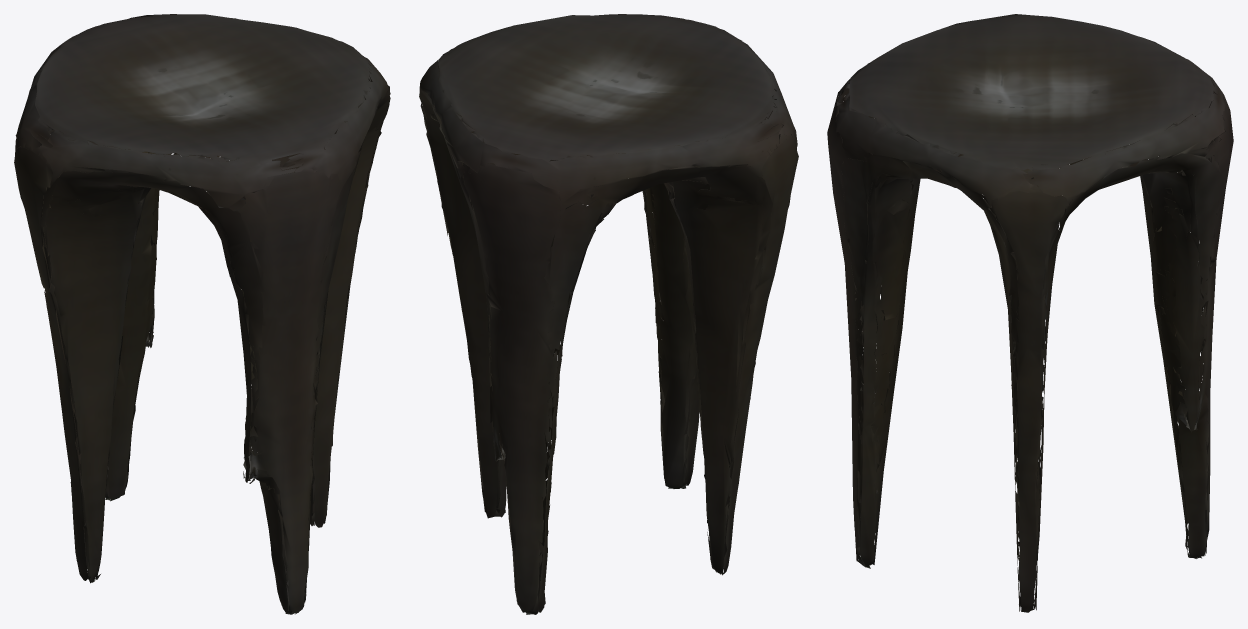
The model's file is side_table_2.glb.
The picture shows the model from 3 angles, left to right: view 1: azimuth 30°, elevation 25°; view 2: azimuth 150°, elevation 25°; view 3: azimuth 270°, elevation 25°; orthographic projection.
Parts seen in each view (by area): view 1: world_1; view 2: world_1; view 3: world_1.
Part boxes in pixels (x1,y1,x2,y2): world_1: [14, 14, 390, 614]; world_1: [419, 14, 798, 614]; world_1: [827, 14, 1233, 612].
Size of the model in its own units: 0.3982 by 0.5074 by 0.3938.
1 material, 1 textured.
